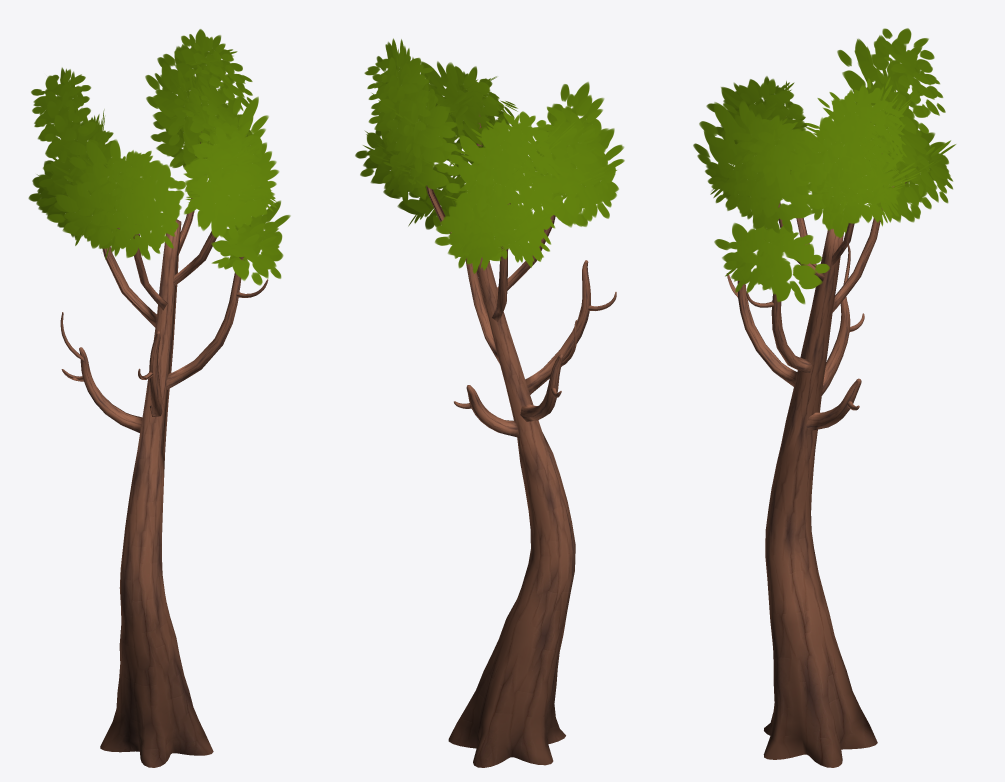
Rendered from tree_b.glb.
3 views of the same model, side by side, from view 1: azimuth 30°, elevation 25°; view 2: azimuth 150°, elevation 25°; view 3: azimuth 270°, elevation 25° (orthographic). The views are drawn at different scales.
Parts seen in each view (by area): view 1: CommonTree_4; view 2: CommonTree_4; view 3: CommonTree_4.
Part boxes in pixels (x1,y1,x2,y2): CommonTree_4: (28, 29, 290, 767); CommonTree_4: (355, 38, 624, 767); CommonTree_4: (693, 28, 955, 767).
Bounding box in the file's own units: 3.83 × 9.44 × 3.76.
Materials: 2 (2 with a texture image).
